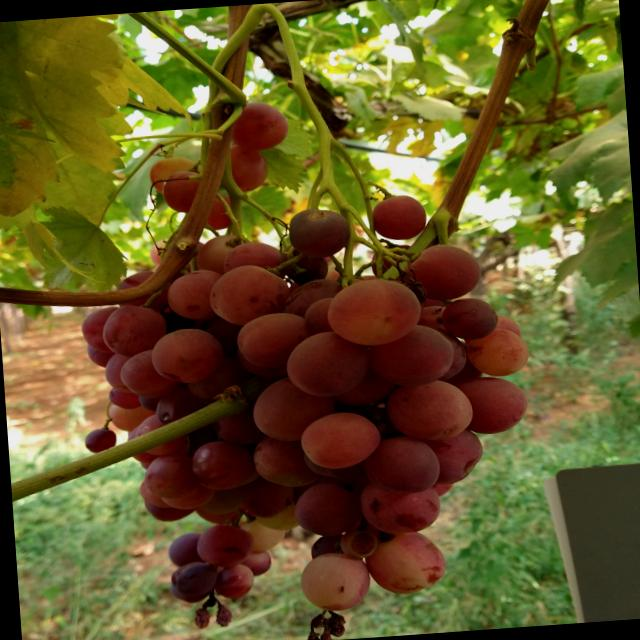grapes: (325, 274, 423, 348), (248, 372, 336, 444), (283, 328, 372, 399), (367, 320, 454, 390), (385, 376, 474, 444), (364, 527, 448, 595), (208, 262, 296, 326), (400, 240, 482, 304), (298, 408, 382, 469), (232, 309, 318, 368), (358, 476, 442, 536), (362, 433, 441, 496), (297, 549, 371, 612), (454, 374, 529, 436), (290, 480, 363, 540), (250, 430, 322, 490), (150, 326, 224, 384), (188, 436, 260, 492), (100, 302, 170, 359), (165, 265, 232, 321), (462, 326, 531, 378), (422, 428, 483, 486), (284, 276, 352, 326), (288, 207, 351, 260), (225, 100, 288, 152), (119, 348, 180, 400), (328, 362, 394, 408), (223, 238, 284, 286), (142, 450, 201, 498), (212, 142, 268, 192), (80, 303, 140, 349), (440, 296, 500, 342), (370, 193, 426, 242), (197, 520, 254, 568), (114, 268, 176, 312), (183, 354, 241, 401), (192, 232, 252, 276), (148, 153, 204, 195), (210, 404, 266, 446), (134, 412, 187, 456), (280, 243, 330, 289), (154, 385, 208, 425), (301, 296, 354, 335), (161, 170, 210, 212), (242, 476, 291, 518), (422, 338, 468, 382), (235, 342, 291, 378), (103, 349, 149, 392), (106, 397, 159, 431), (238, 516, 286, 552), (413, 303, 455, 341), (212, 561, 254, 599), (173, 563, 216, 599), (166, 531, 207, 567), (158, 486, 214, 512), (476, 312, 520, 345), (84, 333, 125, 368), (196, 191, 232, 229), (200, 486, 243, 516), (144, 498, 197, 522), (254, 504, 298, 532), (136, 383, 178, 412), (195, 502, 243, 526), (339, 528, 376, 558), (126, 428, 158, 462), (310, 532, 348, 559), (236, 548, 272, 576), (108, 383, 142, 410), (83, 426, 117, 453), (169, 560, 203, 584), (138, 479, 166, 508), (150, 238, 177, 266), (429, 480, 452, 496)
